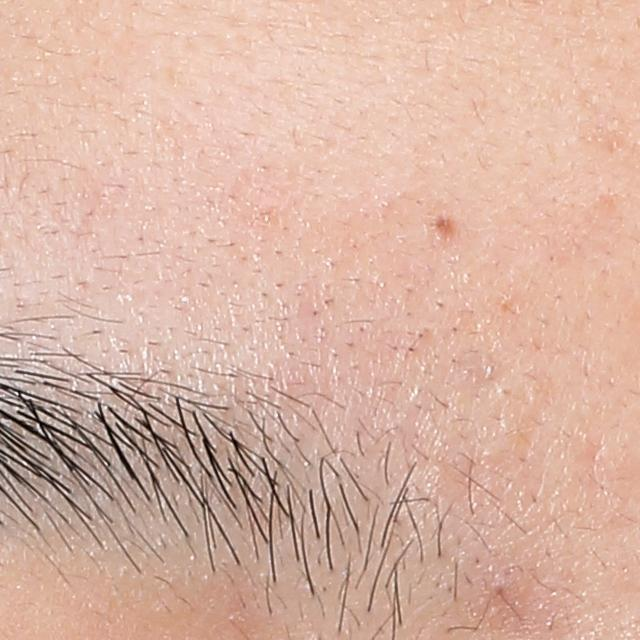nevus: (438, 213, 454, 241)
